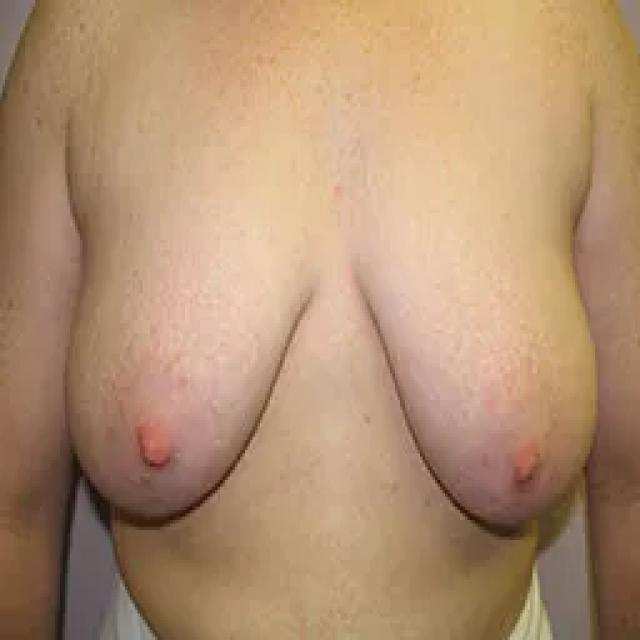Seno ileso: (57, 166, 330, 551), (339, 169, 606, 557)
